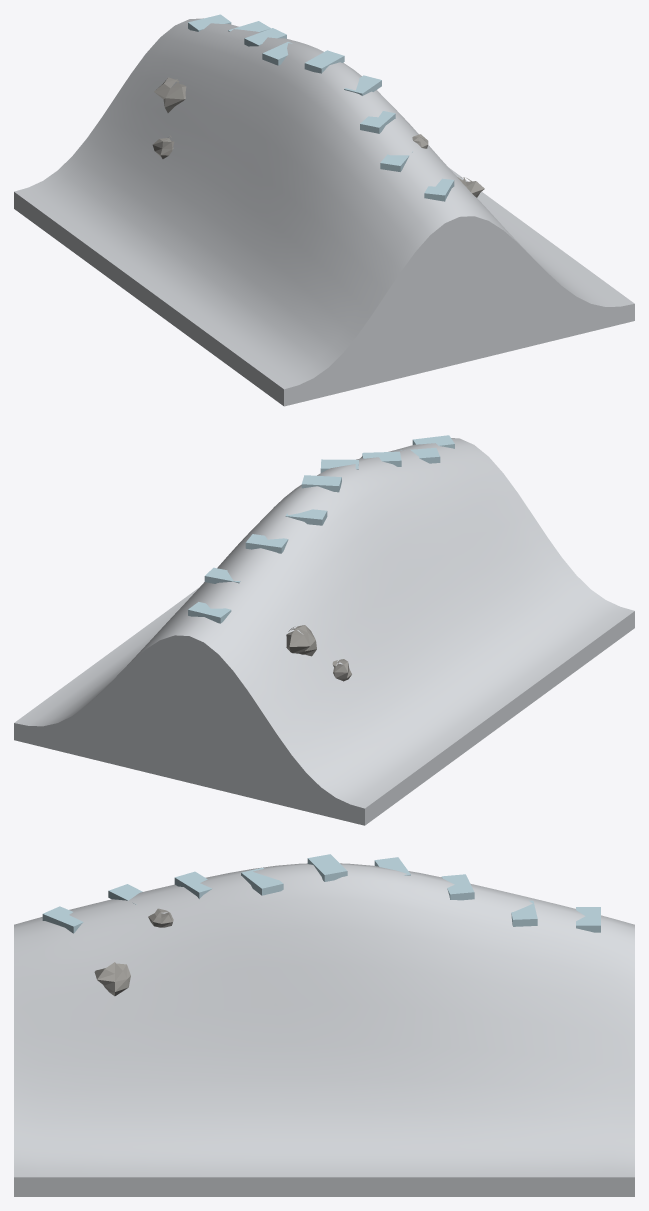
The model's file is mountaineering-and-summit-expedition-snow-ridge-module-17e358f6__18824.glb.
3 renders of one model, top to bottom at view 1: azimuth 30°, elevation 25°; view 2: azimuth 150°, elevation 25°; view 3: azimuth 270°, elevation 25°, orthographic. The views are drawn at different scales.
Parts seen in each view (by area): view 1: snow-ridge-module; view 2: snow-ridge-module; view 3: snow-ridge-module.
Part boxes in pixels (x1=…): snow-ridge-module: x1=14, y1=14, x2=634, y2=406; snow-ridge-module: x1=14, y1=435, x2=634, y2=825; snow-ridge-module: x1=14, y1=854, x2=634, y2=1196.
Bounding box in the file's own units: 3 × 1.67 × 4.
